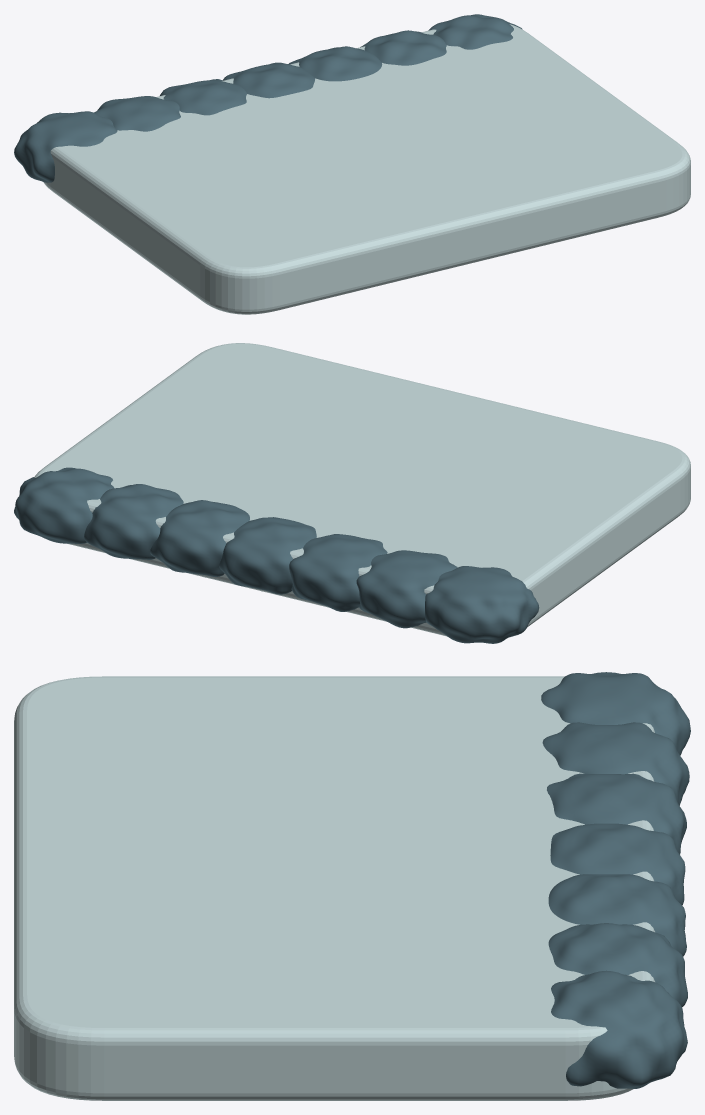
The picture shows the model from 3 angles, top to bottom: view 1: azimuth 30°, elevation 25°; view 2: azimuth 150°, elevation 25°; view 3: azimuth 270°, elevation 25°; orthographic projection. The views are drawn at different scales.
Visible parts, largest first — view 1: environment-water, stone-5, stone-6, stone-9, stone-7, stone-8, stone-10, stone-11; view 2: environment-water, stone-5, stone-11, stone-6, stone-8, stone-7, stone-10, stone-9; view 3: environment-water, stone-11, stone-5, stone-9, stone-6, stone-8, stone-10, stone-7.
Boxes of the visible parts, <box> form: environment-water: <box>43,24,690,314</box>; stone-5: <box>14,111,117,182</box>; stone-6: <box>94,96,180,131</box>; stone-9: <box>288,46,382,81</box>; stone-7: <box>160,79,246,115</box>; stone-8: <box>223,62,314,98</box>; stone-10: <box>360,30,446,65</box>; stone-11: <box>428,14,522,49</box>; environment-water: <box>34,343,690,636</box>; stone-5: <box>425,566,539,643</box>; stone-11: <box>14,467,113,543</box>; stone-6: <box>356,550,457,628</box>; stone-8: <box>219,517,316,594</box>; stone-7: <box>289,534,387,611</box>; stone-10: <box>84,484,183,559</box>; stone-9: <box>150,500,249,576</box>; environment-water: <box>14,676,654,1100</box>; stone-11: <box>551,970,687,1088</box>; stone-5: <box>541,672,690,755</box>; stone-9: <box>548,874,686,956</box>; stone-6: <box>542,722,689,805</box>; stone-8: <box>550,823,685,905</box>; stone-10: <box>548,923,687,1007</box>; stone-7: <box>547,773,686,854</box>.
Bounding box in the file's own units: 5.4 × 0.6021 × 4.11.
